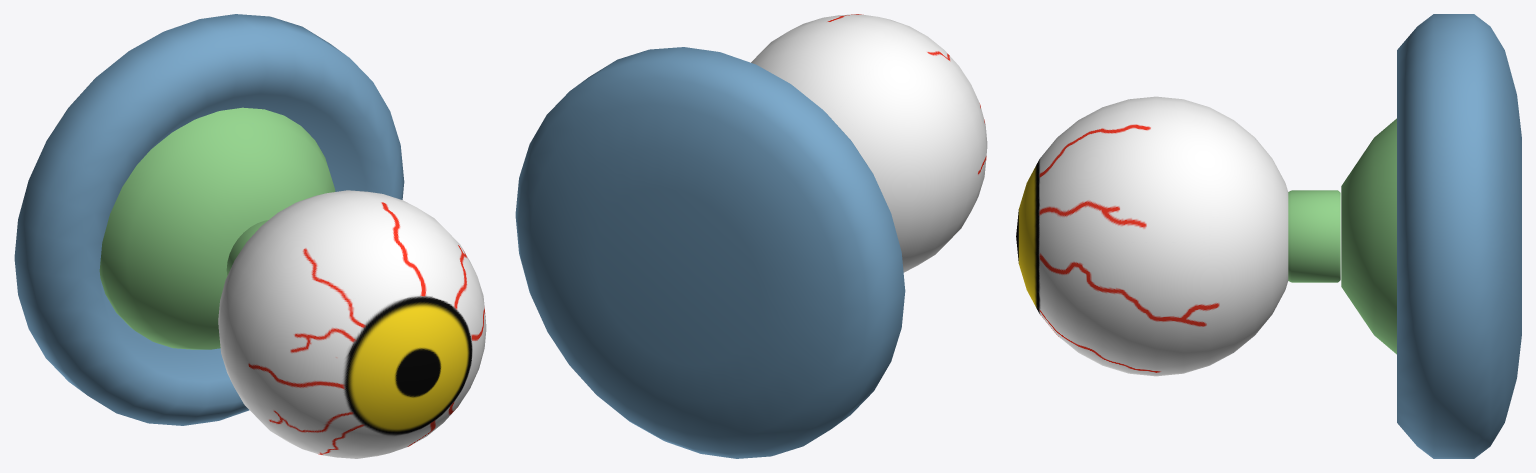
File: Monster Mash - Eye 13.fbx
The picture shows the model from 3 angles, left to right: view 1: azimuth 30°, elevation 25°; view 2: azimuth 150°, elevation 25°; view 3: azimuth 270°, elevation 25°; orthographic projection. The views are drawn at different scales.
Parts seen in each view (by area): view 1: Eye Popper, Eye Popper Eyeball, Eye Popper Joint, Eye Connection; view 2: Eye Popper, Eye Popper Eyeball; view 3: Eye Popper Eyeball, Eye Popper, Eye Popper Joint, Eye Connection.
Boxes of the visible parts, x1=… form: Eye Popper: x1=14, y1=14, x2=404, y2=425; Eye Popper Eyeball: x1=218, y1=190, x2=486, y2=458; Eye Popper Joint: x1=99, y1=107, x2=335, y2=349; Eye Connection: x1=226, y1=220, x2=268, y2=275; Eye Popper: x1=515, y1=47, x2=905, y2=458; Eye Popper Eyeball: x1=751, y1=14, x2=987, y2=272; Eye Popper Eyeball: x1=1016, y1=96, x2=1288, y2=376; Eye Popper: x1=1397, y1=14, x2=1521, y2=458; Eye Popper Joint: x1=1341, y1=118, x2=1396, y2=354; Eye Connection: x1=1288, y1=190, x2=1340, y2=282.
Bounding box in the file's own units: 275 × 275 × 313.
Materials: 1 (1 with a texture image).
